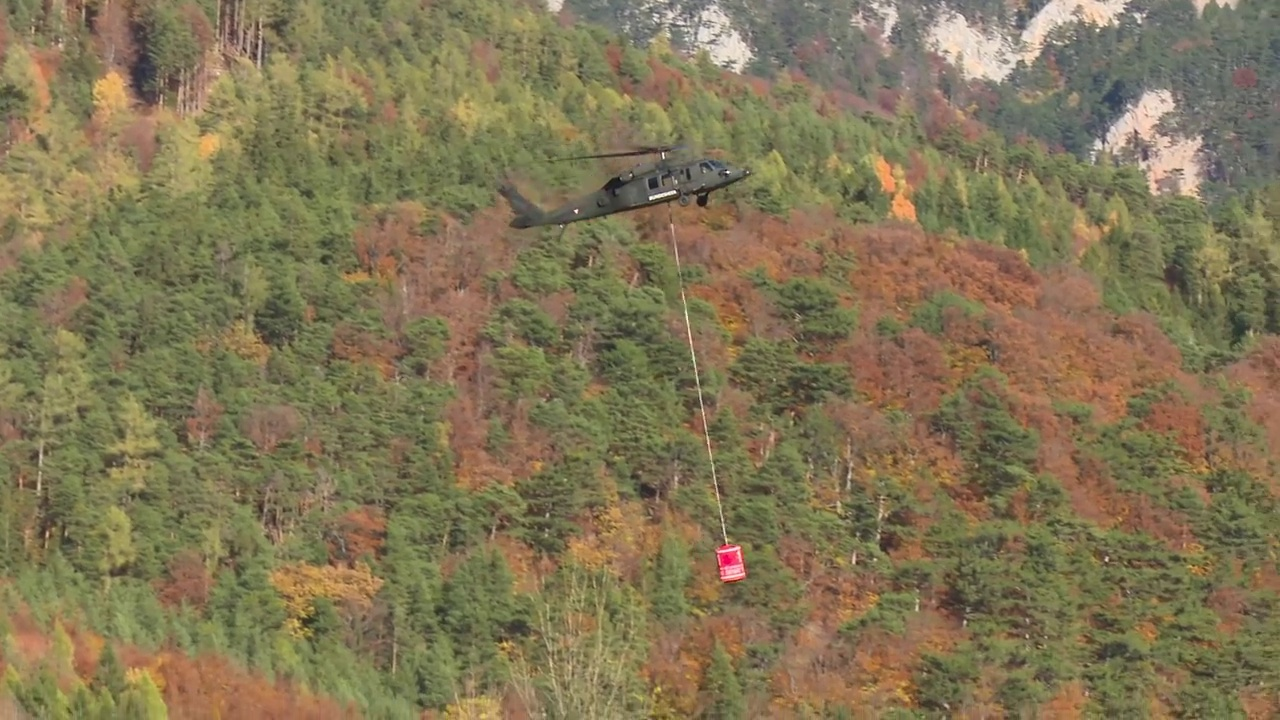heli: (498, 146, 753, 231)
